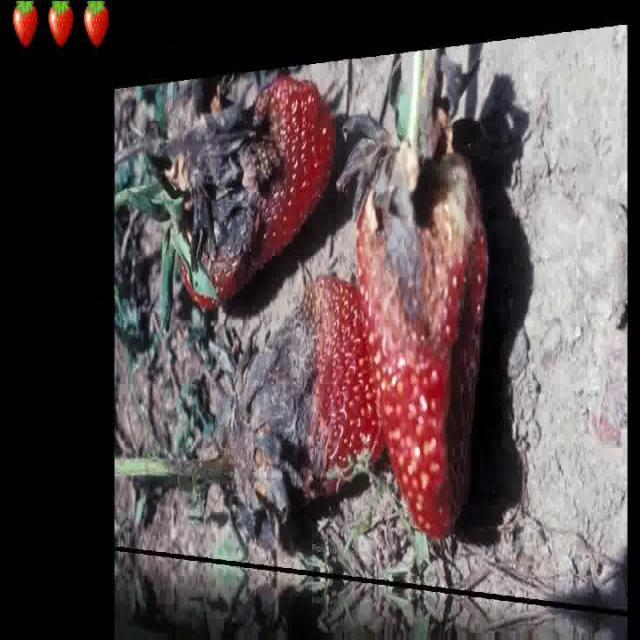Moho gris: (361, 164, 512, 528), (164, 78, 337, 295), (238, 268, 377, 532)
